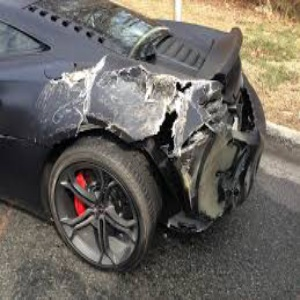bumper: (169, 134, 269, 225)
